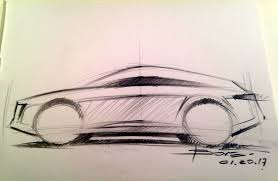car: (8, 59, 268, 157)
